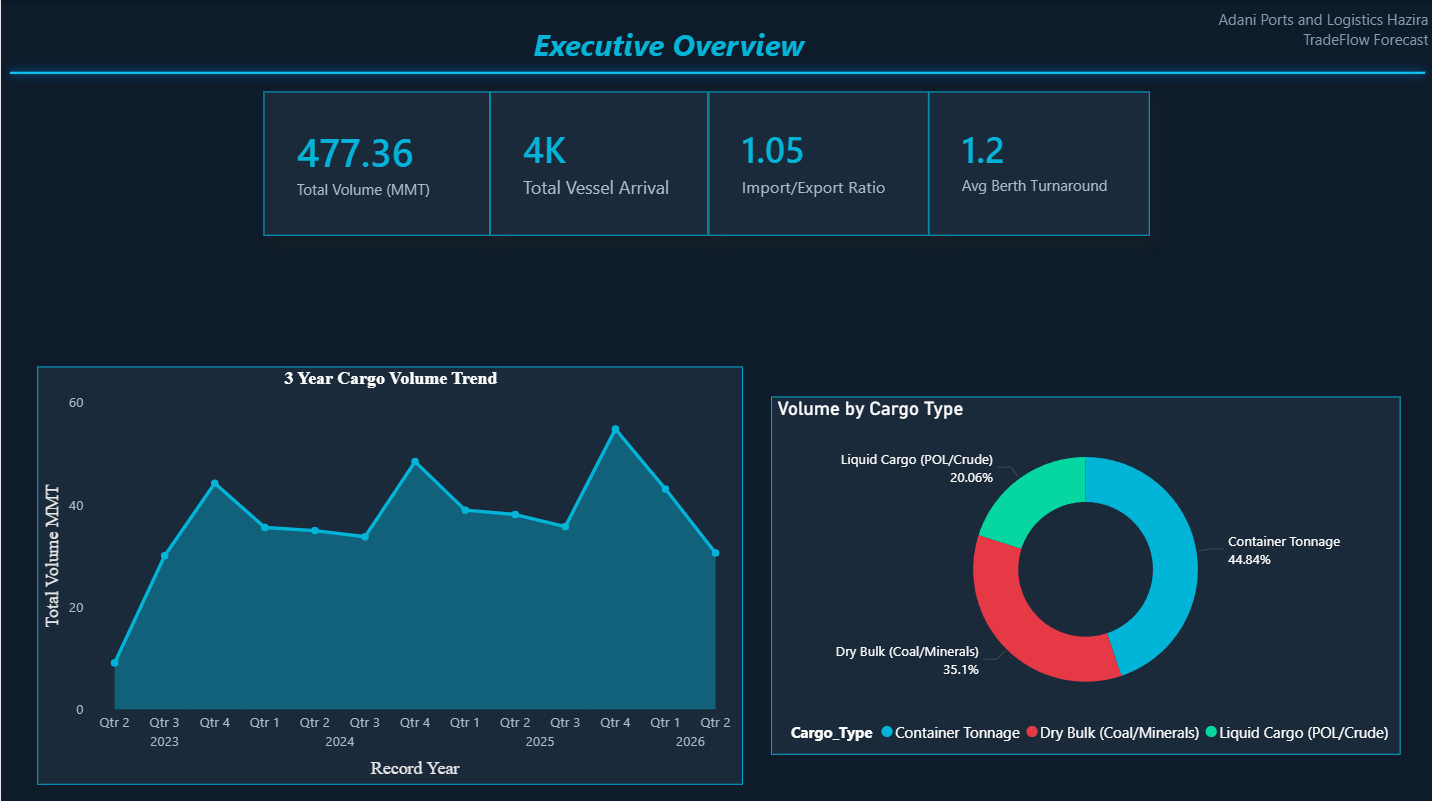

Layout of this report page (visuals, bound fields, positions):
{"tool":"powerbi","page":{"name":"Strategic Macro Trends","canvas":[1280,720],"ordinal":1},"visuals":[{"type":"actionButton","box":[0,0,100,40],"z":0},{"type":"cardVisual","fields":{"Data":["daily_port_cargo.Total Volume"]},"box":[351.6,18.1,244.2,122.1],"z":1000},{"type":"cardVisual","fields":{"Data":["daily_port_cargo.Total Vessel Arrivals"]},"box":[99.5,20.4,244.2,119.8],"z":2000},{"type":"cardVisual","fields":{"Data":["daily_port_cargo.Avg Turnaround Days"]},"box":[604.9,18.1,244.2,121],"z":3000},{"type":"cardVisual","fields":{"Data":["daily_port_cargo.Import Export Ratio"]},"box":[858.2,18.1,244.2,119.8],"z":4000},{"type":"clusteredColumnChart","title":"Total Vessel Arrivals by Cargo Type","fields":{"Category":["daily_port_cargo.Cargo_Type"],"Y":["daily_port_cargo.Total Vessel Arrivals"]},"box":[780,181.2,485,295],"z":5000},{"type":"lineChart","title":"Total Volume by Month and Year","fields":{"Y":["daily_port_cargo.Total Volume"],"Series":["daily_port_cargo.Year"],"Category":["daily_port_cargo.Full_Month_Name"]},"box":[11.2,163.8,752.5,538.8],"z":6000},{"type":"textbox","box":[797.5,537.5,467.5,165],"z":7000}]}

Visuals, with their boxes in screenshot pixels (x1, y1, x2, y2), scaled from the page's 1280x720 canvas onto the 1432x801 screenshot:
actionButton: locate(0, 0, 112, 44)
cardVisual - daily_port_cargo.Total Volume: locate(393, 20, 667, 156)
cardVisual - daily_port_cargo.Total Vessel Arrivals: locate(111, 23, 385, 156)
cardVisual - daily_port_cargo.Avg Turnaround Days: locate(677, 20, 950, 155)
cardVisual - daily_port_cargo.Import Export Ratio: locate(960, 20, 1233, 153)
"Total Vessel Arrivals by Cargo Type" clusteredColumnChart: locate(873, 202, 1415, 530)
"Total Volume by Month and Year" lineChart: locate(13, 182, 854, 782)
textbox: locate(892, 598, 1415, 782)
